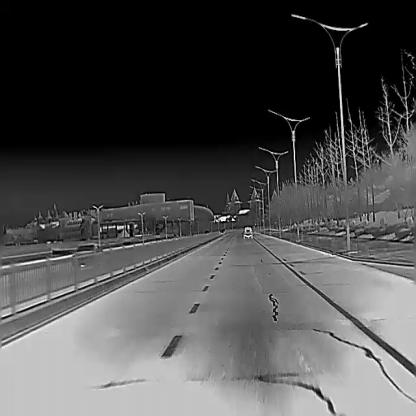car: (72, 242, 104, 267), (242, 225, 253, 238)
